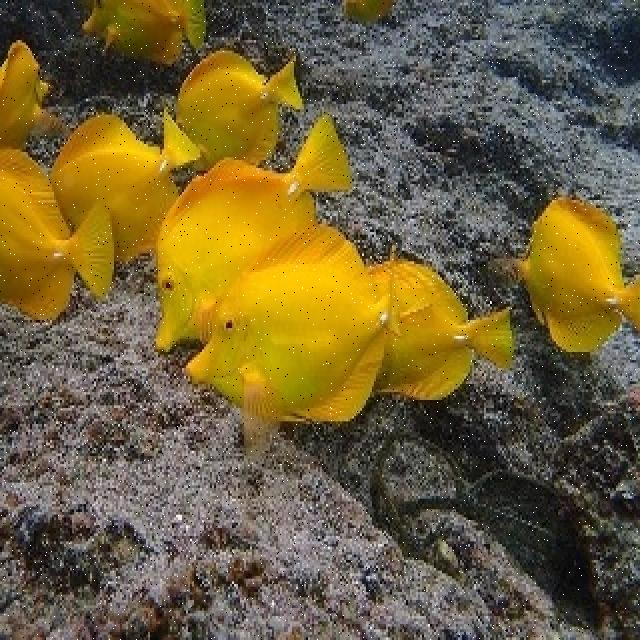fish: (185, 223, 403, 465), (155, 110, 353, 352), (48, 104, 203, 264), (493, 197, 638, 353), (369, 254, 515, 400), (0, 148, 113, 323), (175, 49, 307, 173)
